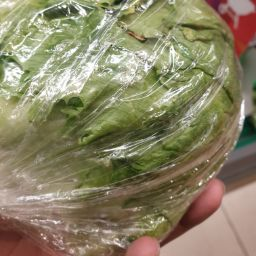Lettuce: (2, 2, 222, 253), (20, 8, 251, 211)
